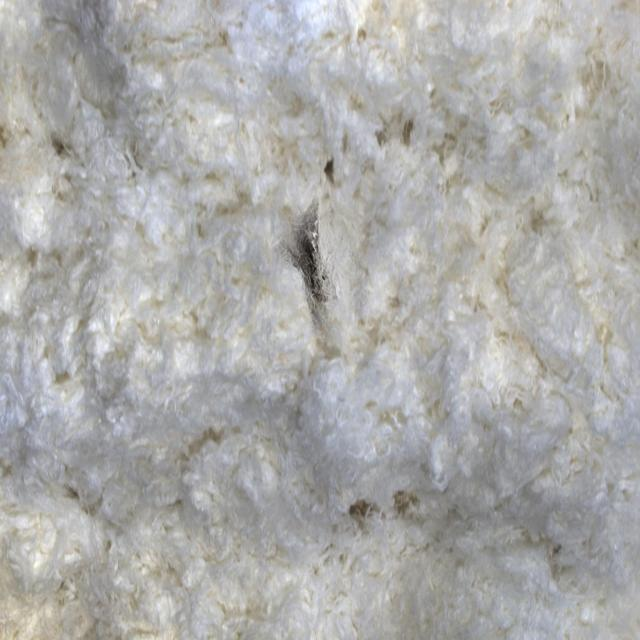dust: (241, 174, 377, 356)
